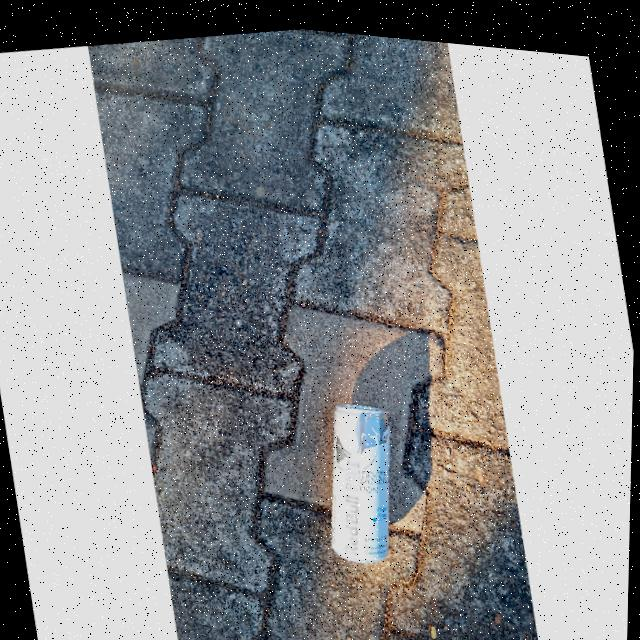Redbull Summer Edition: (302, 386, 422, 567)
